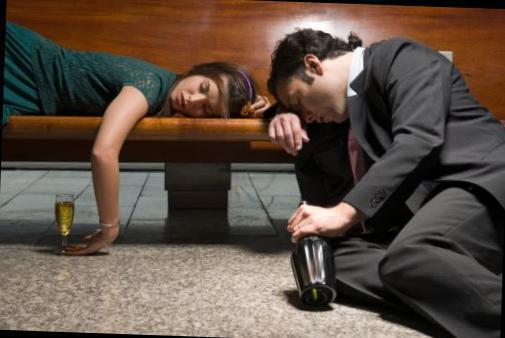Drunk: (270, 69, 350, 127), (167, 72, 233, 118)
